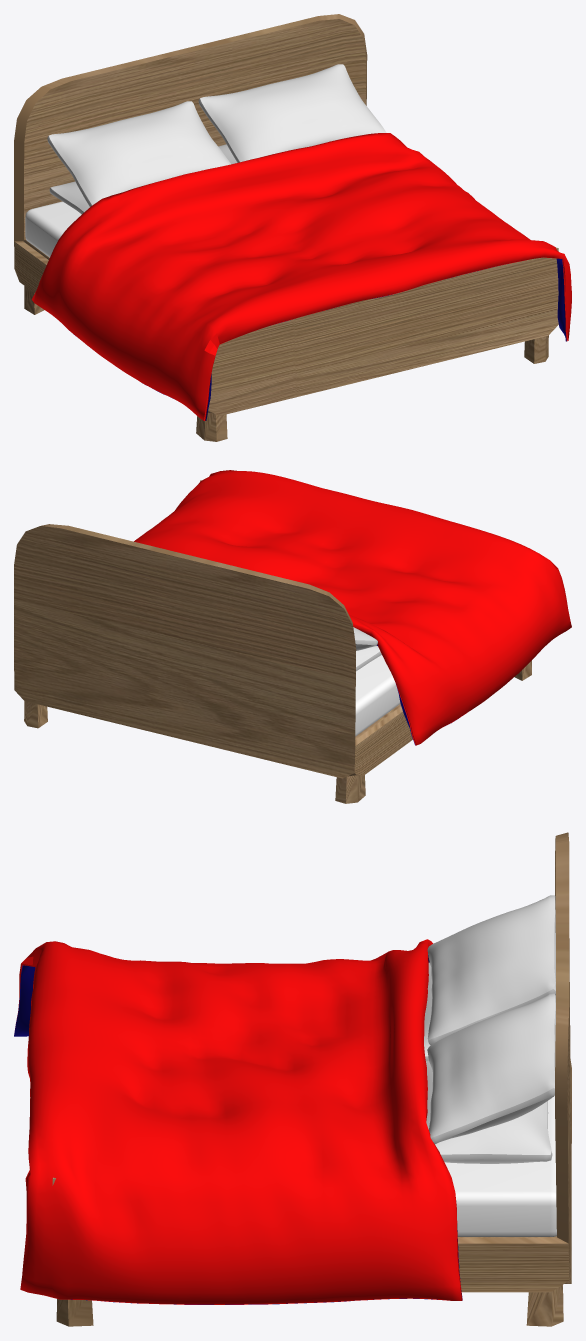
File: douvet and sheets.FBX
The picture shows the model from 3 angles, top to bottom: view 1: azimuth 30°, elevation 25°; view 2: azimuth 150°, elevation 25°; view 3: azimuth 270°, elevation 25°; orthographic projection. The views are drawn at different scales.
Visible parts, largest first — view 1: Plane008, Box006, Plane007, Plane006, Box007, Plane005; view 2: Box006, Plane008, Box007; view 3: Plane008, Box006, Plane007, Plane006, Box007, Plane004.
Part boxes in pixels (left/top/right/bottom): Plane008: left=32, top=133, right=571, bottom=420; Box006: left=14, top=14, right=558, bottom=441; Plane007: left=198, top=64, right=386, bottom=162; Plane006: left=47, top=101, right=230, bottom=206; Box007: left=25, top=201, right=81, bottom=257; Plane005: left=49, top=181, right=89, bottom=214; Box006: left=14, top=480, right=531, bottom=803; Plane008: left=134, top=470, right=571, bottom=745; Box007: left=355, top=655, right=400, bottom=736; Plane008: left=14, top=939, right=462, bottom=1304; Box006: left=52, top=832, right=571, bottom=1326; Plane007: left=427, top=993, right=555, bottom=1144; Plane006: left=427, top=895, right=555, bottom=1044; Box007: left=444, top=1095, right=556, bottom=1236; Plane004: left=426, top=1060, right=552, bottom=1163.
Size of the model in its own units: 95.23 by 48.37 by 84.93.
4 materials, 1 textured.
